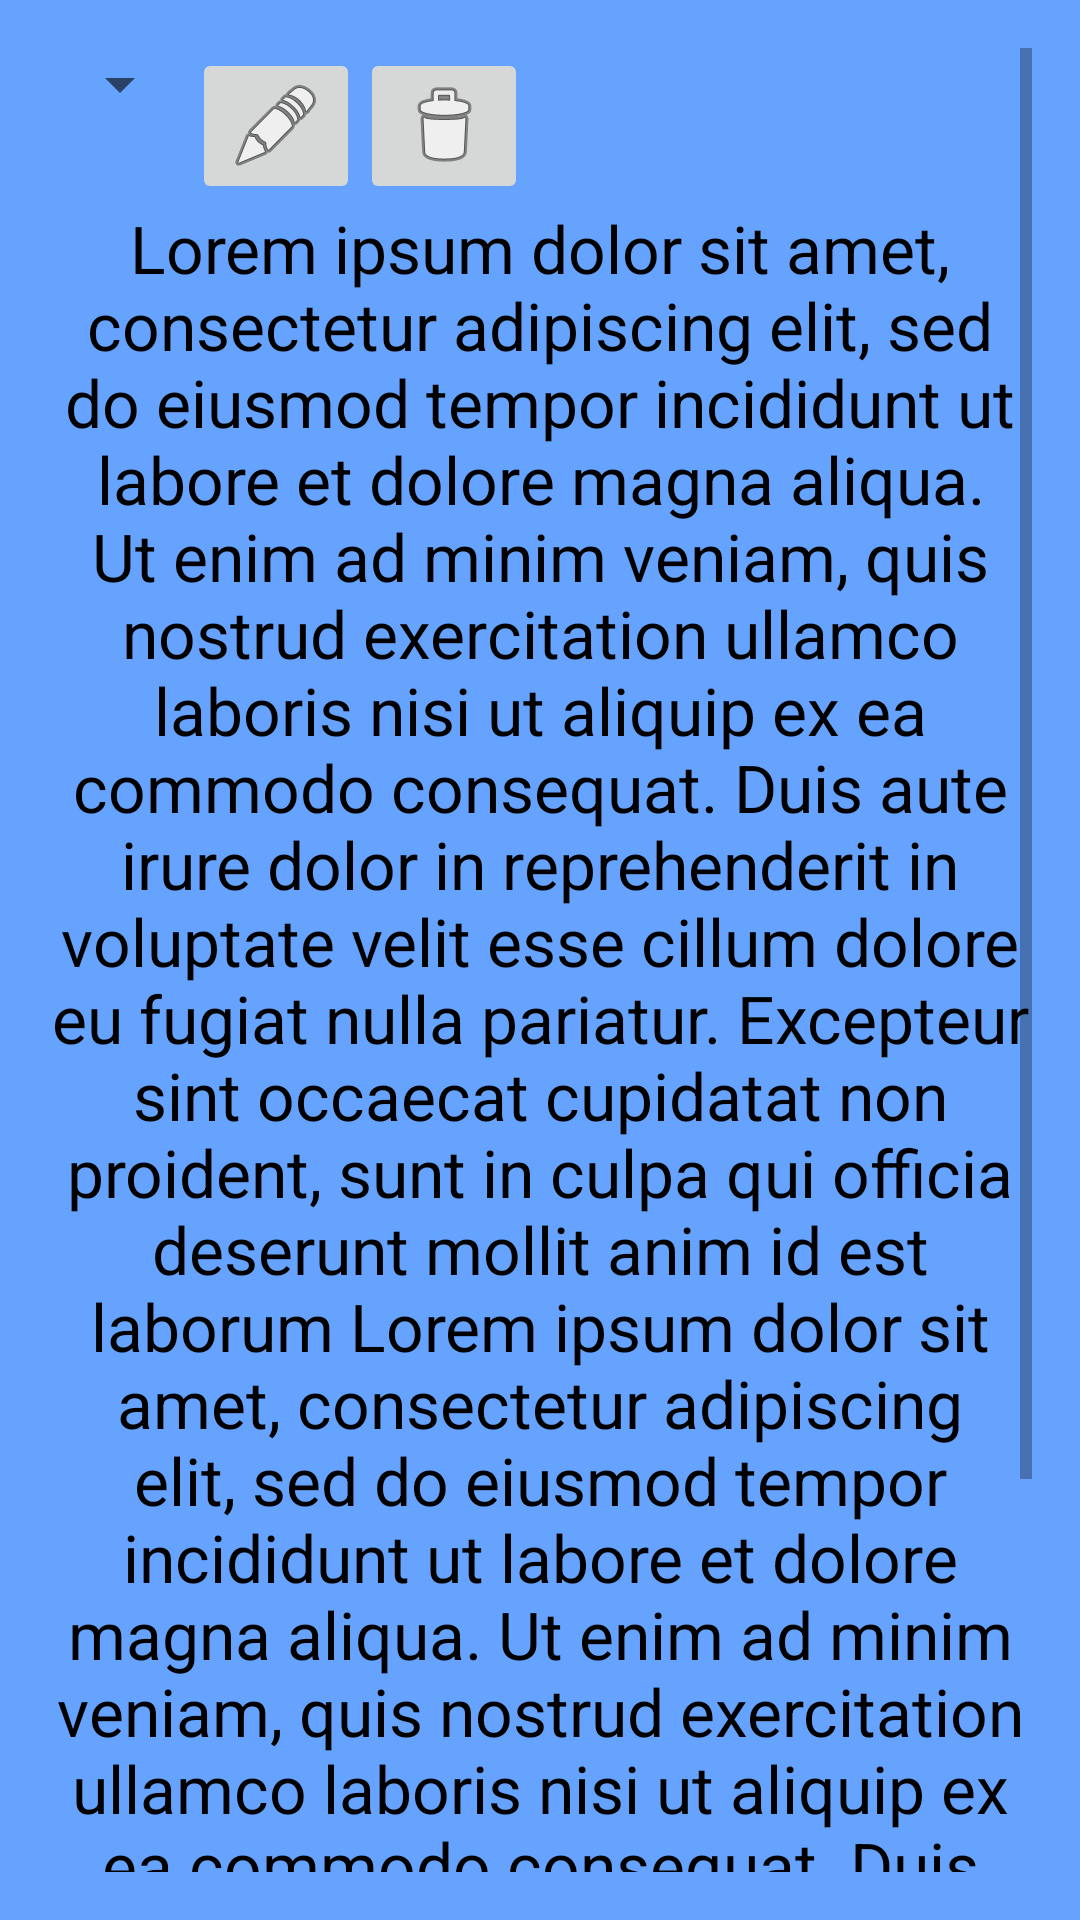

Named icons in this screenshot (1080 x 1920) and their bounding boxes, detection(x1, y1, x2, y2):
delete: detection(372, 66, 516, 186)
edit: detection(204, 66, 348, 186)
